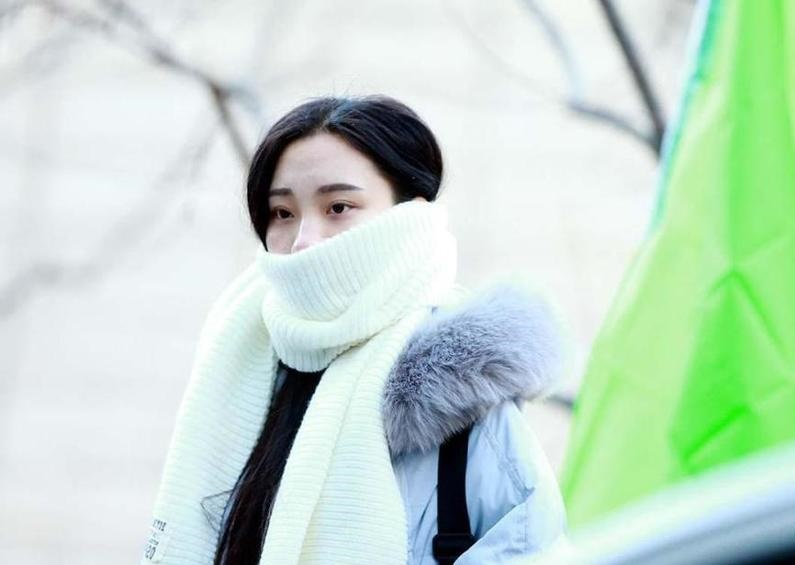face: (261, 138, 406, 296)
